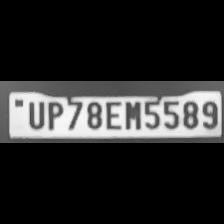5: (161, 97, 179, 129), (141, 98, 158, 130)
7: (64, 99, 82, 131)
8: (83, 99, 103, 130), (180, 97, 198, 130)
9: (200, 97, 218, 129)
E: (103, 99, 121, 130)
M: (122, 98, 140, 130)
P: (43, 99, 63, 130)
U: (24, 99, 46, 129)
